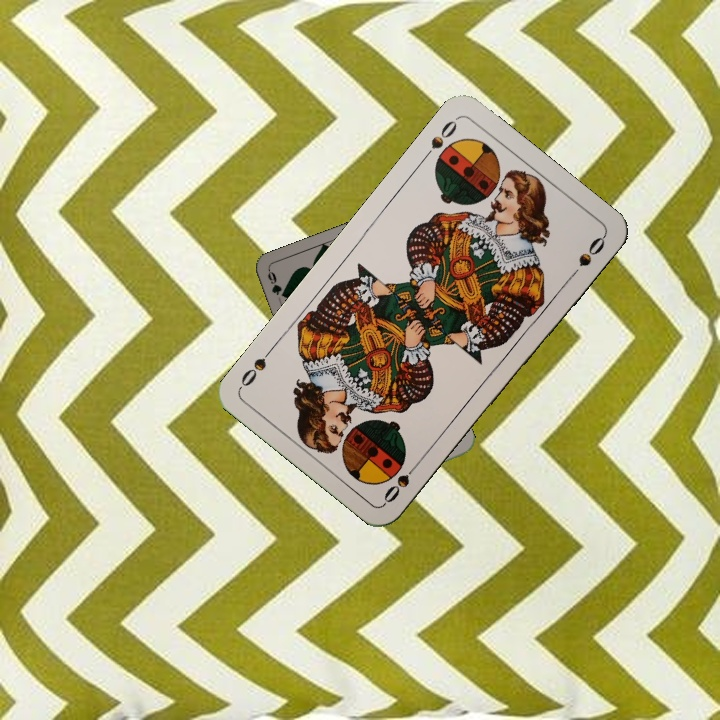G9: (263, 267, 288, 301)
SO: (379, 456, 424, 506), (418, 114, 460, 164)
